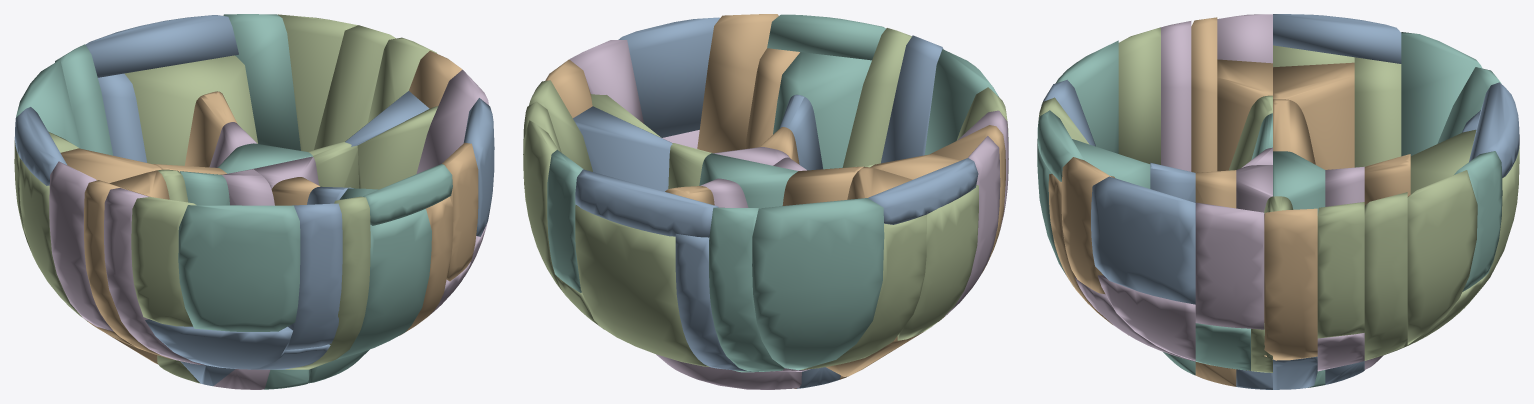
3 views of the same model, side by side, from view 1: azimuth 30°, elevation 25°; view 2: azimuth 150°, elevation 25°; view 3: azimuth 270°, elevation 25° (orthographic).
Size of the model in its own units: 1.8 by 0.959 by 1.8.
